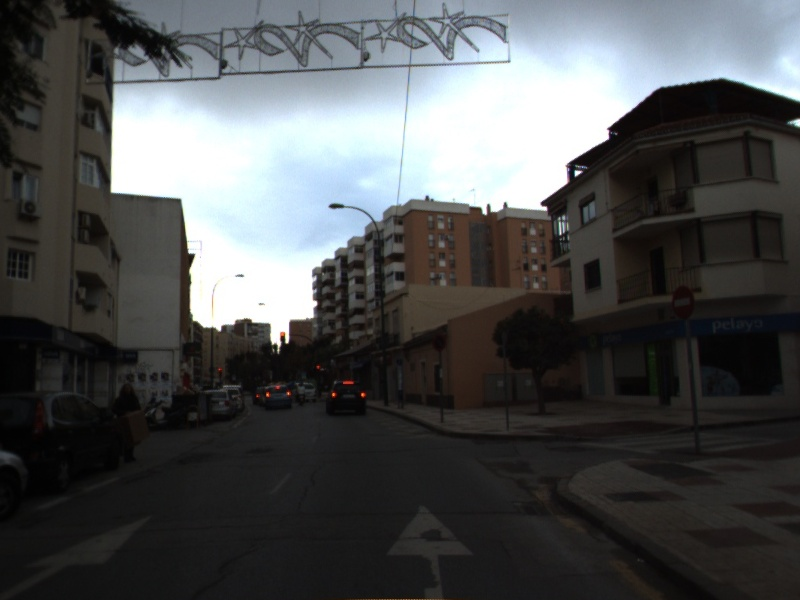STRAIGHT: (1, 507, 162, 600), (382, 501, 478, 600)
